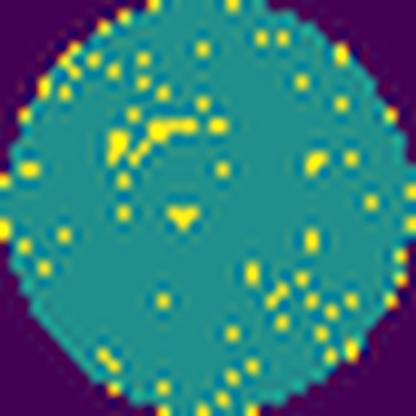Loc: (126, 116, 199, 170), (166, 200, 204, 232), (104, 127, 130, 170)
